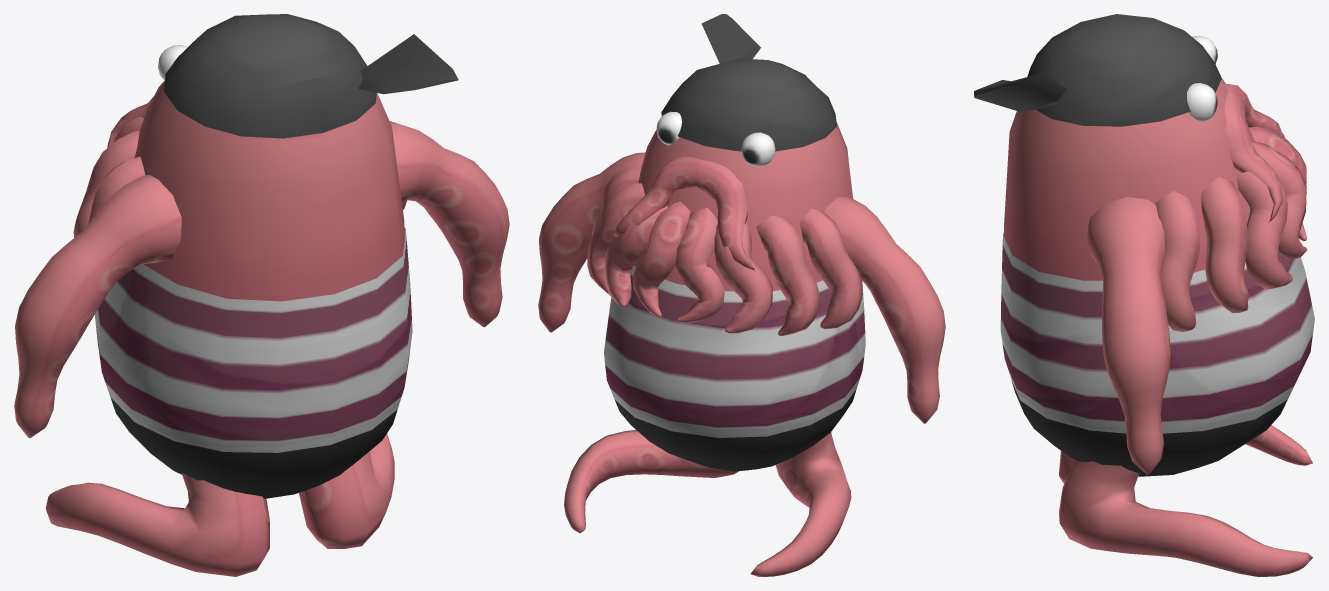
File: tako_idle_a_04.fbx
3 views of the same model, side by side, from view 1: azimuth 30°, elevation 25°; view 2: azimuth 150°, elevation 25°; view 3: azimuth 270°, elevation 25° (orthographic). The views are drawn at different scales.
Parts seen in each view (by area): view 1: I_a_04; view 2: I_a_04; view 3: I_a_04.
Boxes of the visible parts, <box> form: I_a_04: <box>14,14,509,576</box>; I_a_04: <box>538,14,945,576</box>; I_a_04: <box>974,14,1314,576</box>.
Size of the model in its own units: 1.66 by 1.71 by 1.07.
Materials: 1 (1 with a texture image).
